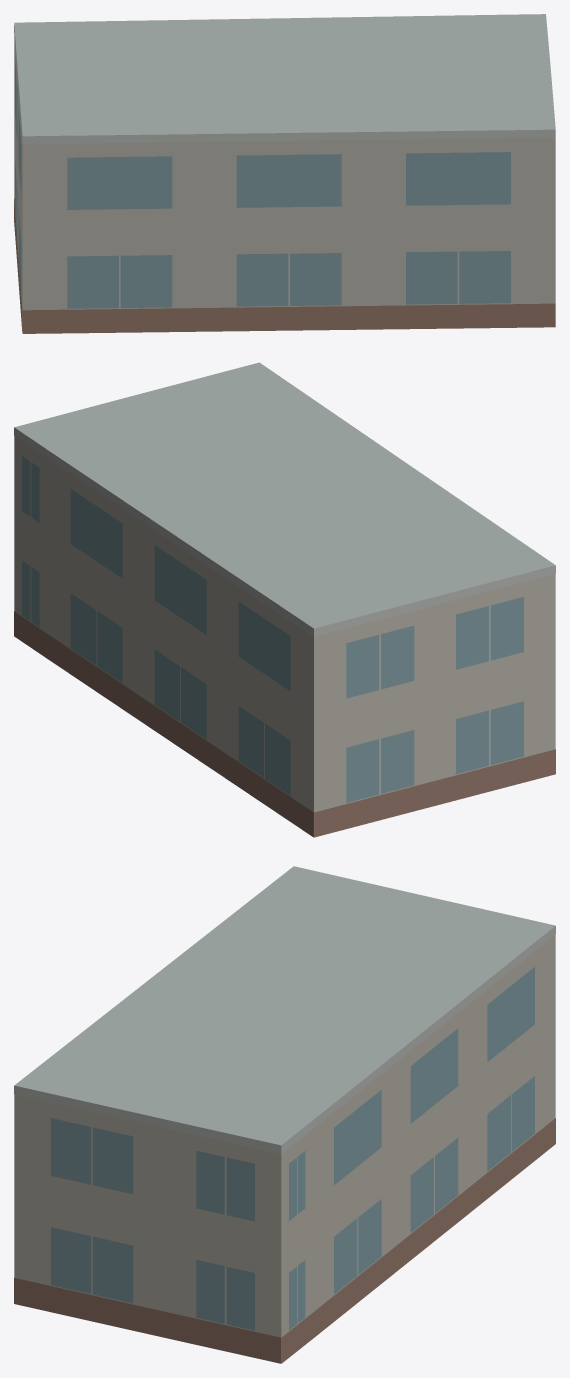
The model's file is survey-upis-32710855.glb.
3 views of the same model, one above another, from view 1: azimuth 30°, elevation 25°; view 2: azimuth 150°, elevation 25°; view 3: azimuth 270°, elevation 25° (orthographic). The views are drawn at different scales.
Visible parts, largest first — view 1: survey-upis-32710855.tmp; view 2: survey-upis-32710855.tmp; view 3: survey-upis-32710855.tmp.
Part boxes in pixels (bbox=[...]): survey-upis-32710855.tmp: bbox=[14, 14, 555, 333]; survey-upis-32710855.tmp: bbox=[14, 362, 555, 837]; survey-upis-32710855.tmp: bbox=[14, 866, 555, 1363].
Size of the model in its own units: 16.74 by 6.1 by 13.72.
